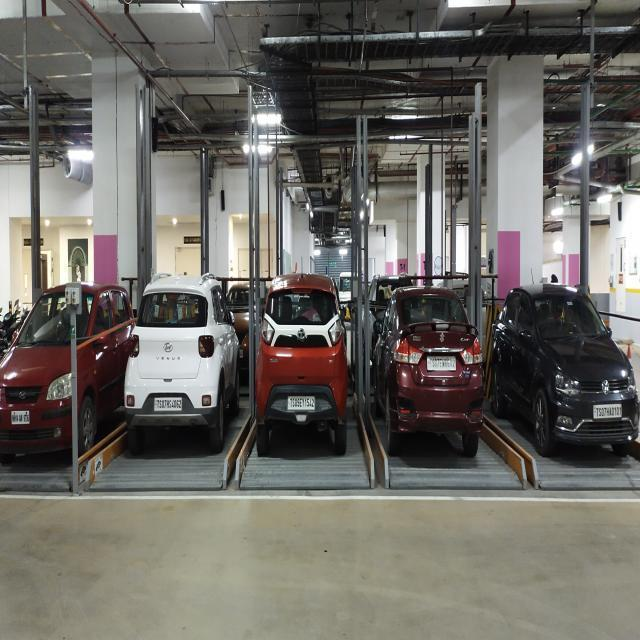space-occupied: (509, 312, 603, 472), (385, 319, 468, 460), (132, 329, 220, 457), (265, 321, 346, 459), (9, 315, 86, 457)
